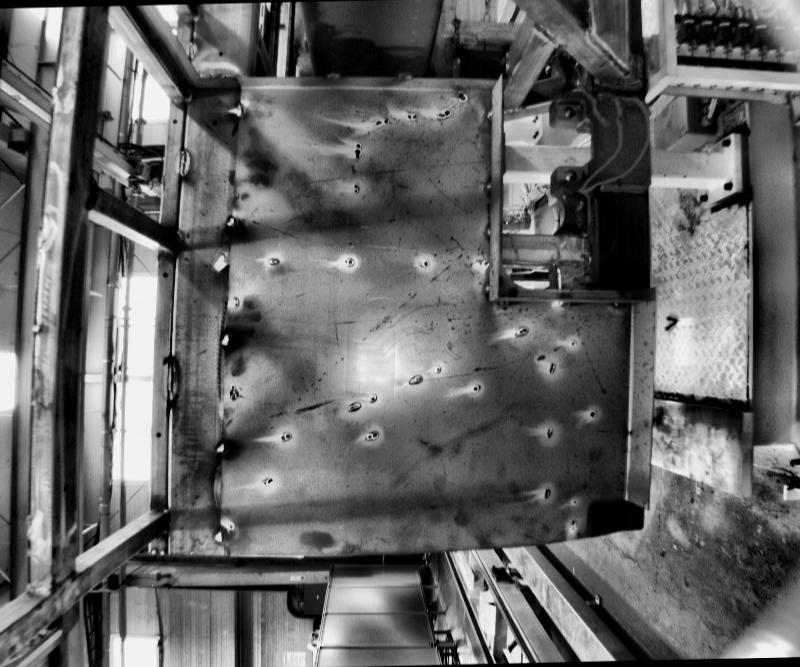hole: (562, 168, 576, 182), (565, 108, 579, 120), (216, 49, 226, 57), (212, 121, 220, 127), (162, 272, 170, 278), (156, 432, 162, 438), (175, 119, 179, 123)
welding: (589, 34, 627, 74), (532, 24, 556, 50), (168, 359, 178, 407), (217, 438, 233, 460), (187, 38, 199, 64), (178, 146, 188, 176), (226, 215, 242, 233), (234, 104, 246, 120), (397, 71, 414, 81), (222, 334, 234, 348), (174, 232, 182, 253), (485, 178, 496, 192), (610, 301, 628, 309), (485, 108, 497, 120), (215, 530, 227, 542), (552, 300, 570, 306), (484, 224, 492, 236), (329, 72, 341, 80), (484, 284, 490, 294), (496, 302, 506, 306)
